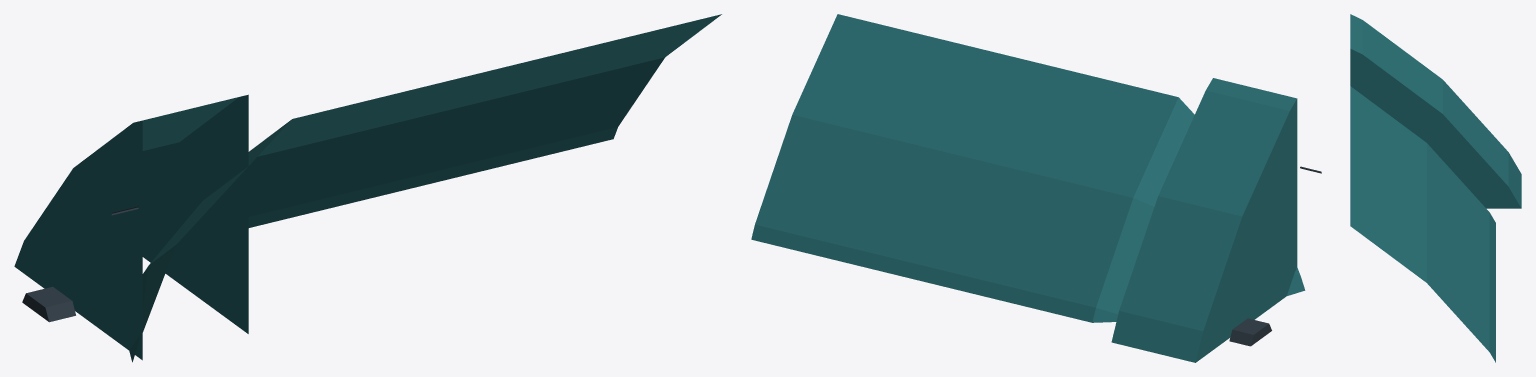
The model's file is cell_43.obj.
3 renders of one model, left to right at view 1: azimuth 30°, elevation 25°; view 2: azimuth 150°, elevation 25°; view 3: azimuth 270°, elevation 25°, orthographic. The views are drawn at different scales.
Size of the model in its own units: 0.8369 by 0.3141 by 0.3044.
